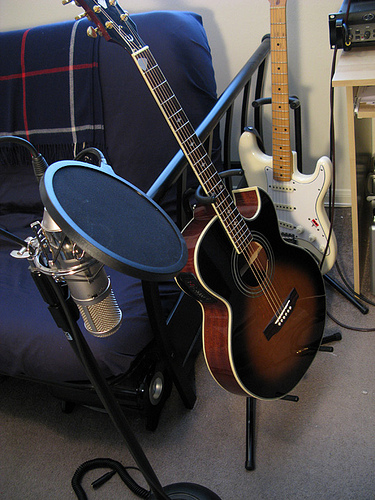guitar: (63, 1, 329, 405)
